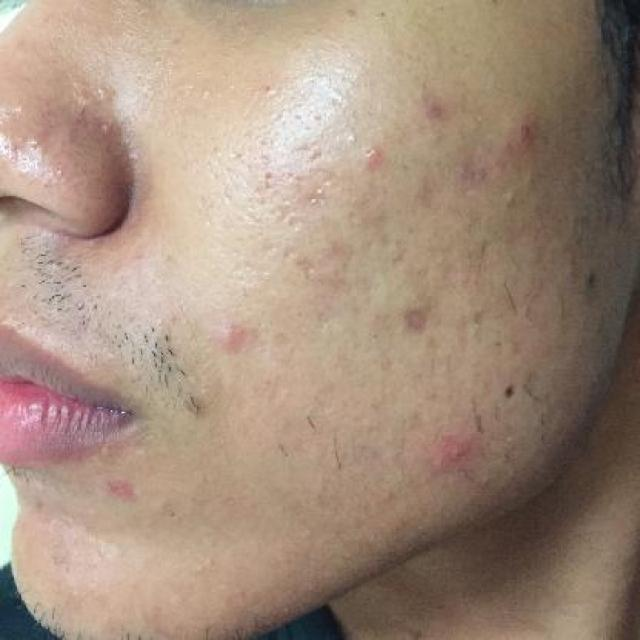dark spot: (389, 299, 443, 352), (503, 119, 548, 156), (426, 94, 463, 127), (289, 256, 320, 285)
papules: (208, 312, 268, 359), (426, 429, 477, 484), (98, 475, 154, 521), (351, 140, 402, 173)
